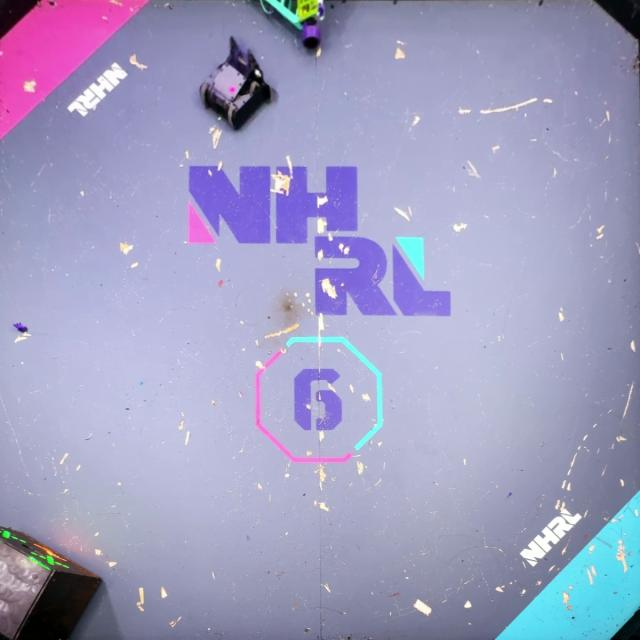housebot: (1, 526, 106, 640)
robot: (199, 35, 279, 132), (255, 0, 329, 51)
